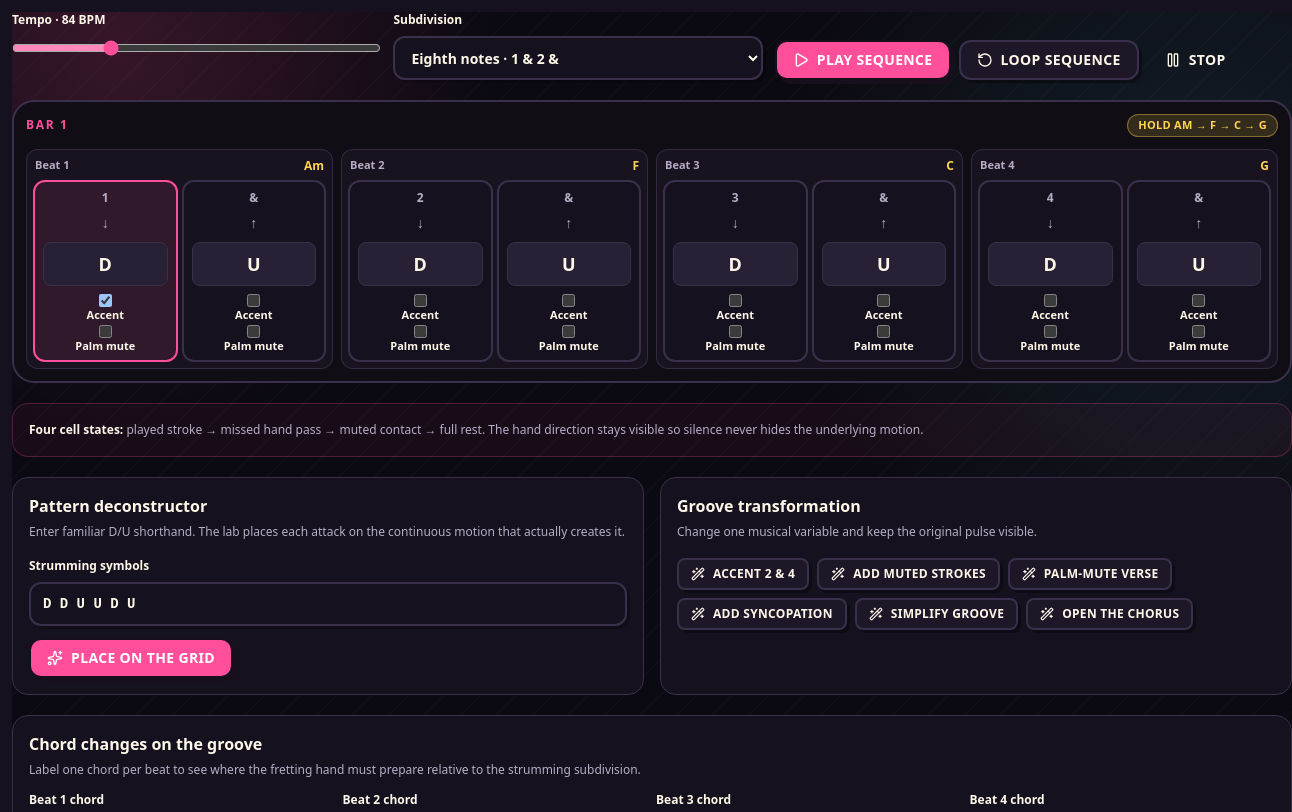
Test case: RhythmLab › deconstructs shorthand and preserves visible hand direction
The width and height of the screenshot is (1292, 812).
Expected: the element named "8-step rhythm grid" is shown, x1=12 y1=100 x2=1291 y2=382
Click the button "Place on the grid" at (131, 658), box x1=29 y1=638 x2=233 y2=678
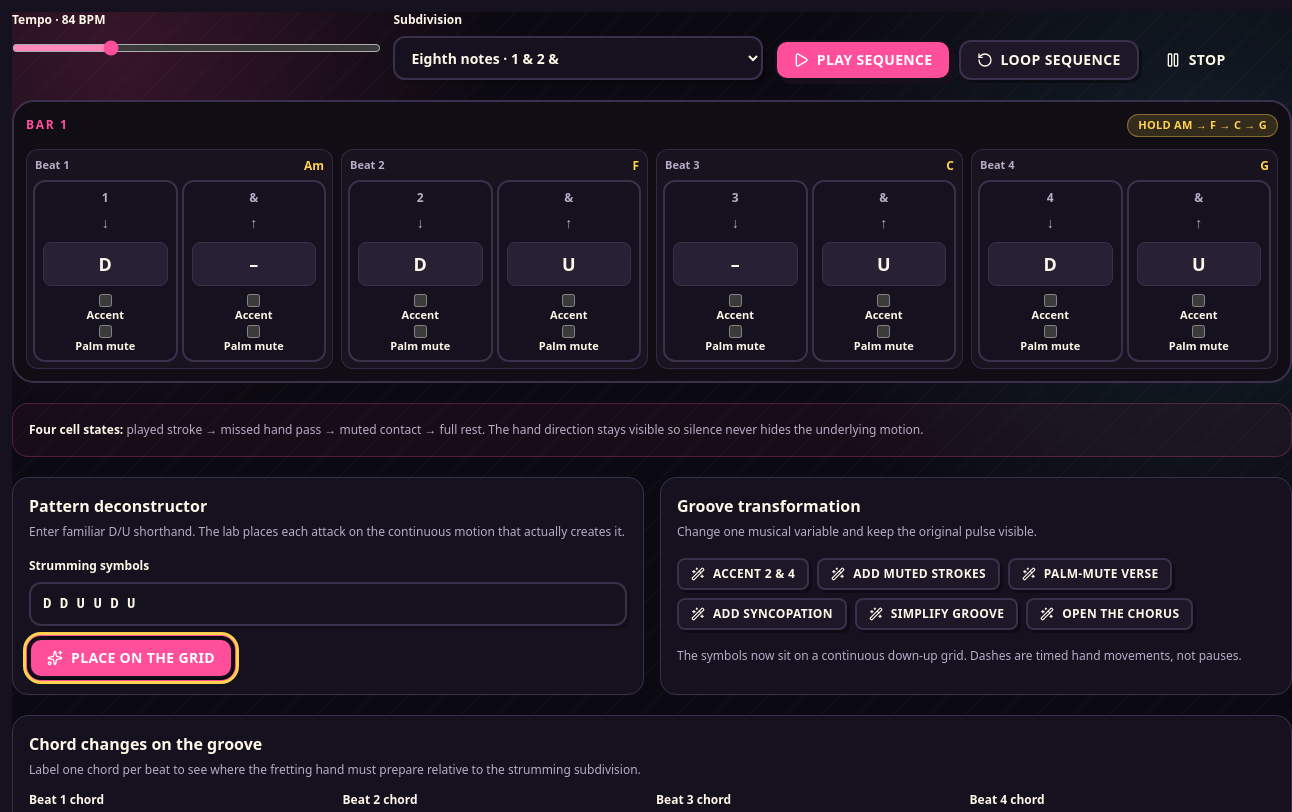
Expected: the message shows "continuous down-up grid", x1=677 y1=646 x2=1242 y2=664
